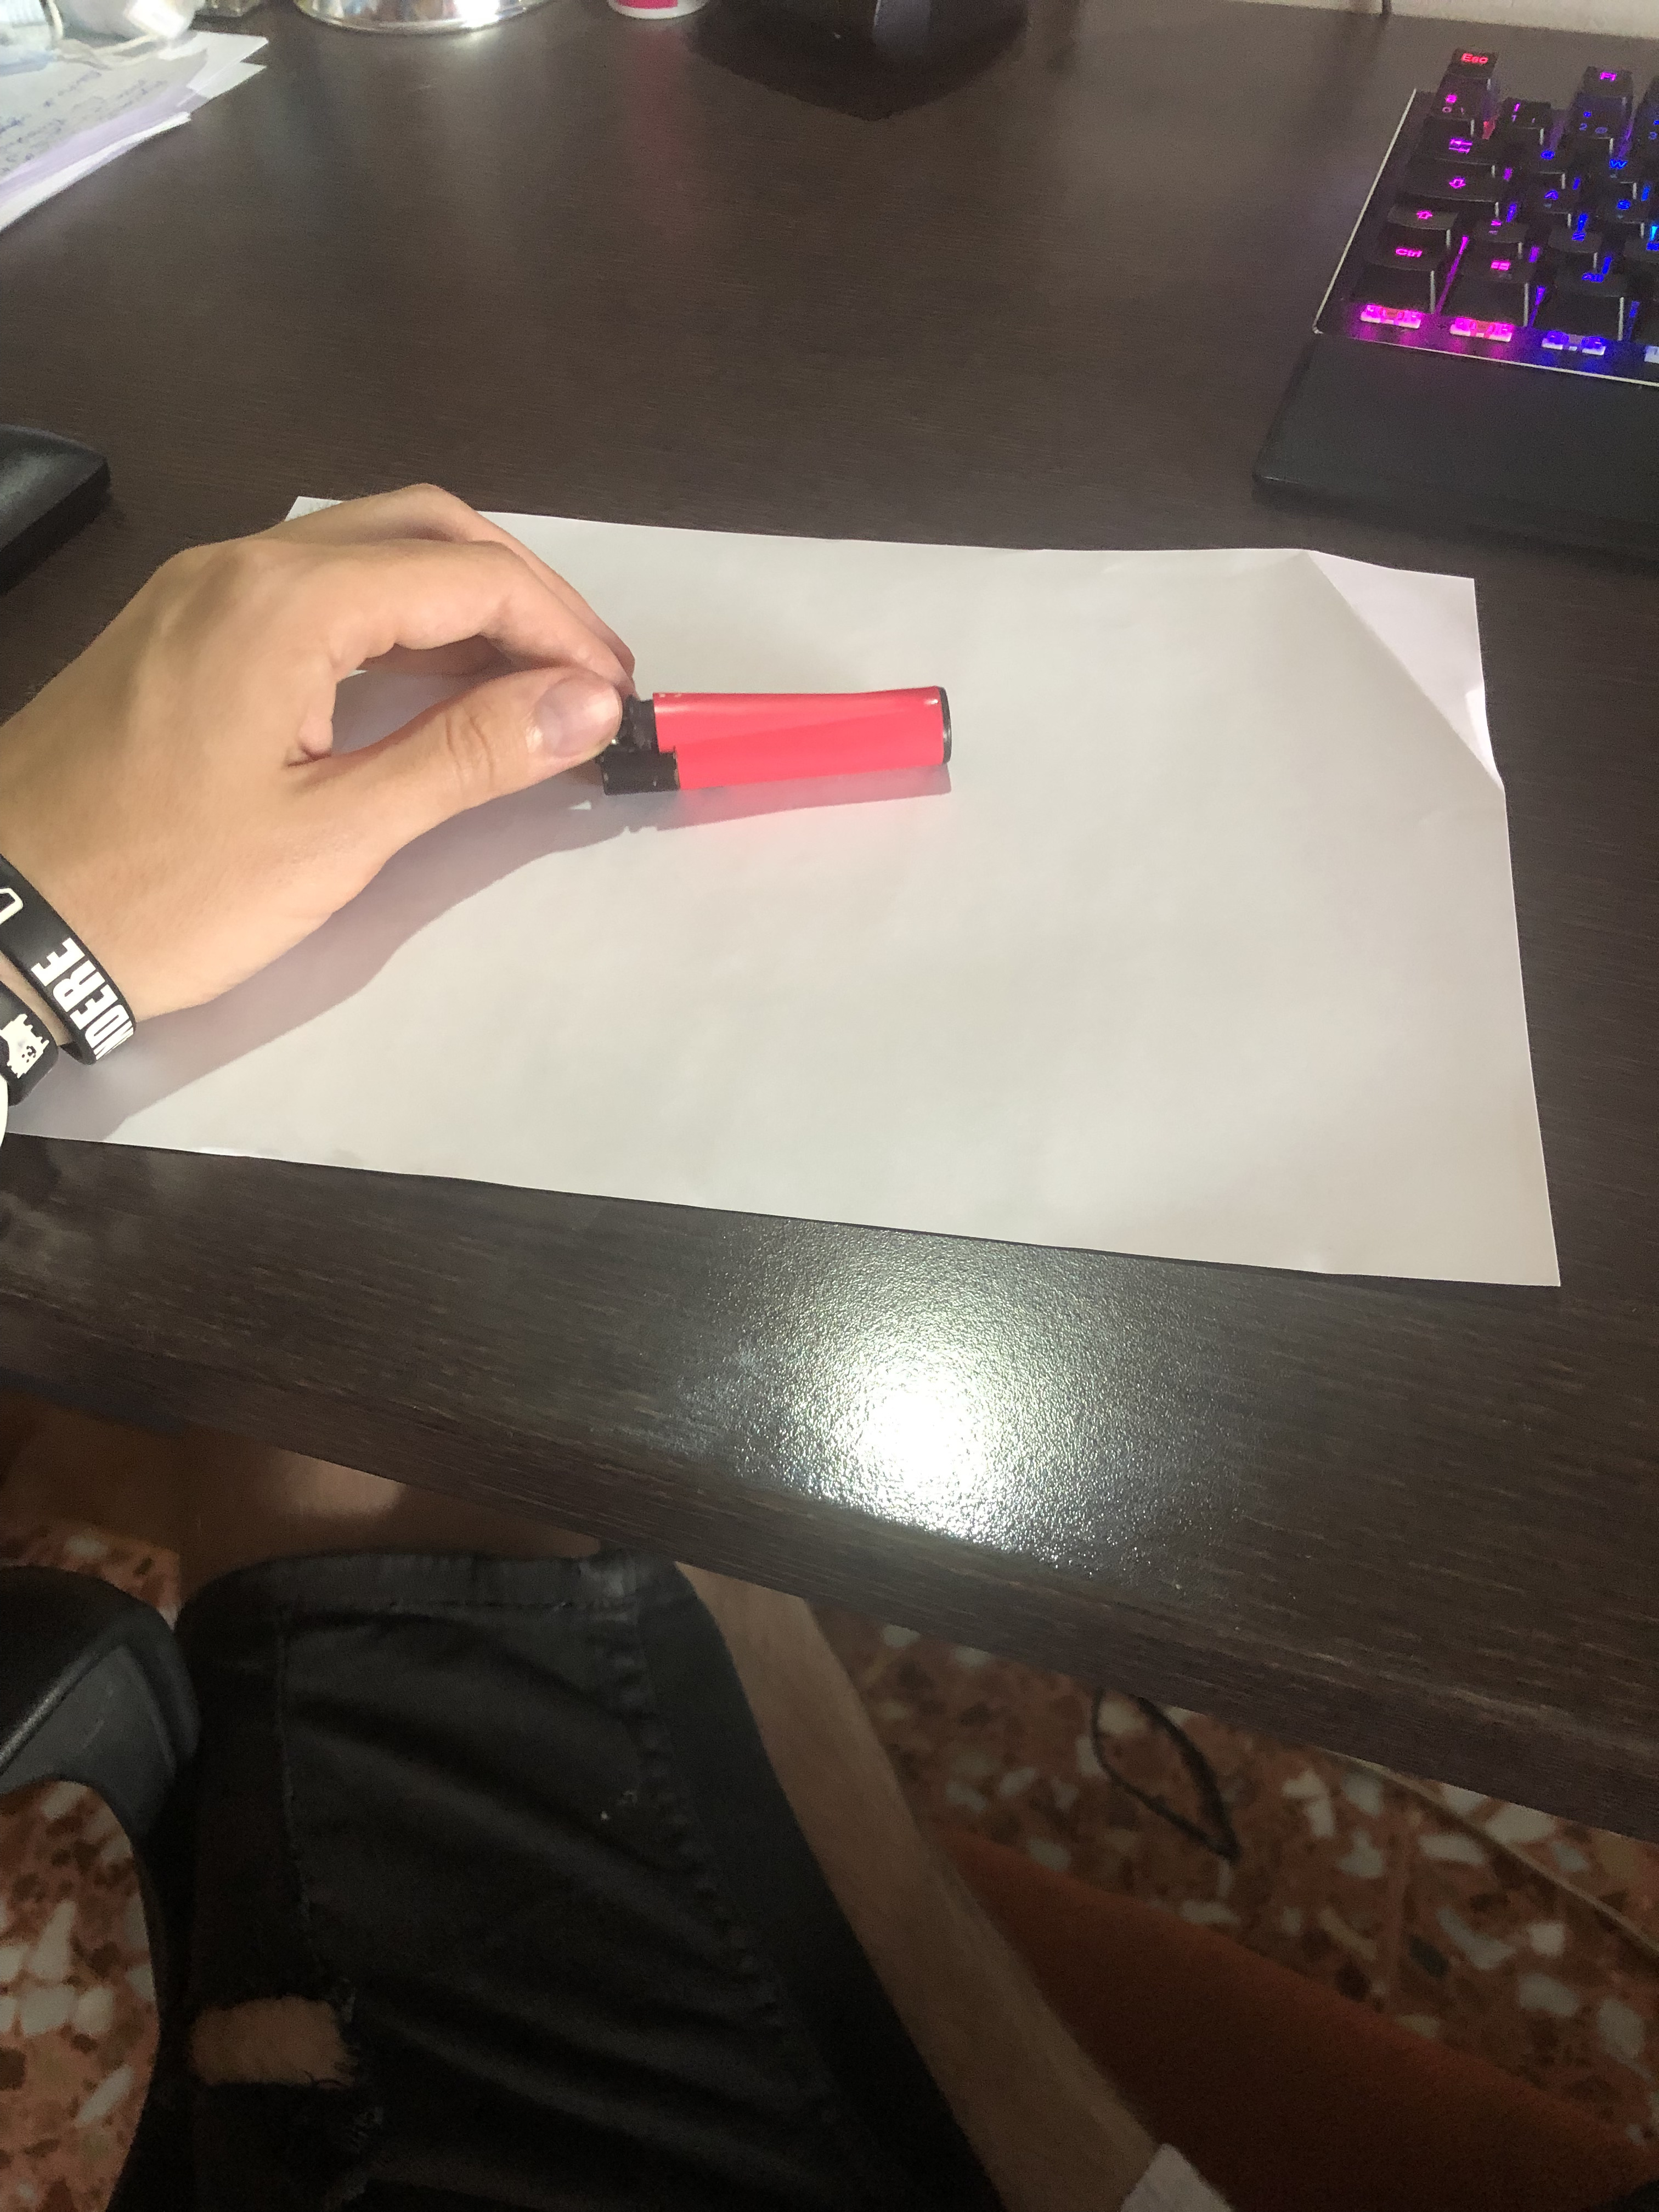Mechero: (575, 672, 957, 784)
